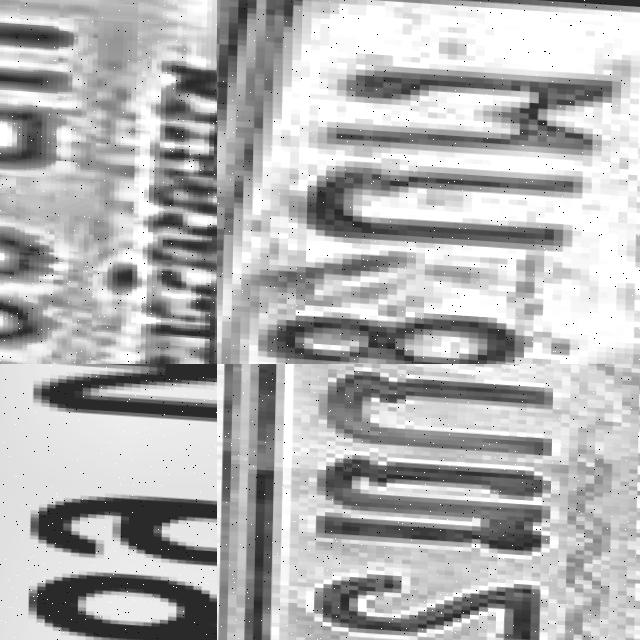license-plate: (217, 0, 640, 364), (225, 364, 640, 640), (0, 0, 217, 364), (0, 364, 217, 640)
